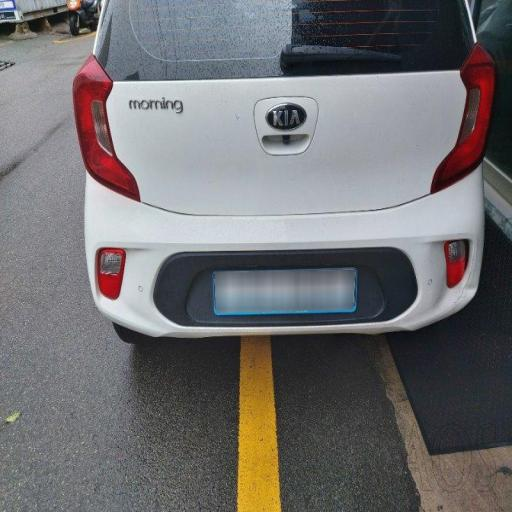scratch: (111, 8, 453, 74)
